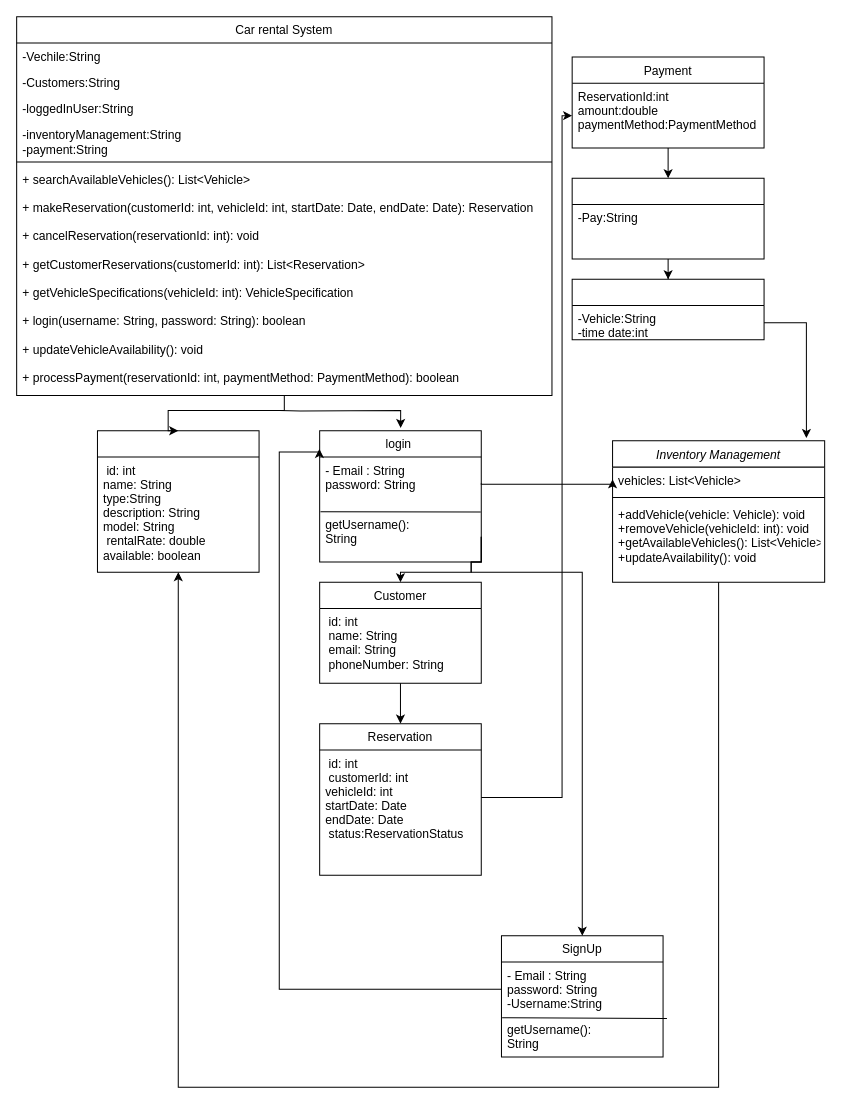
Some shapes in this 841 by 1104 pixel diagram are drawn without their labels. The box of each missing label's shape, as (x1, y1, x2, y2) in pixels:
PaymentMethod: (571, 177, 764, 259)
ReservationSuccess: (571, 278, 764, 340)
Vehicles: (96, 430, 259, 572)
